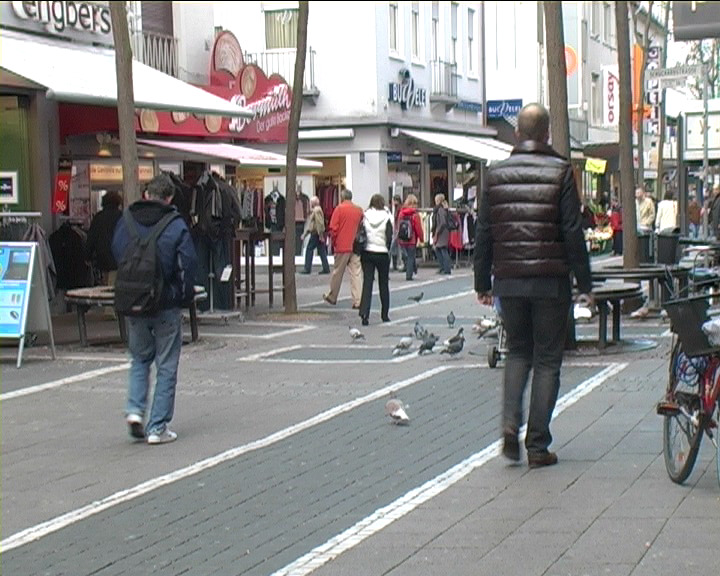undeflect: (122, 168, 186, 247)
